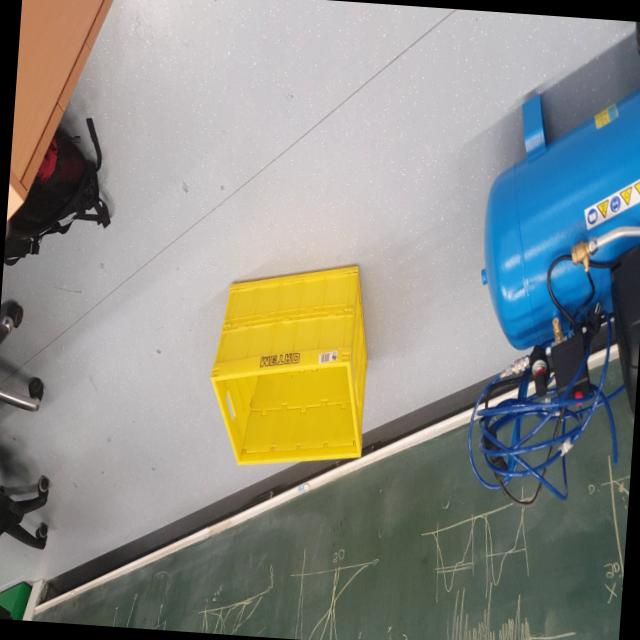box: (192, 229, 394, 492)
